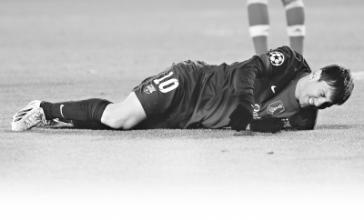falling: (11, 37, 347, 137)
